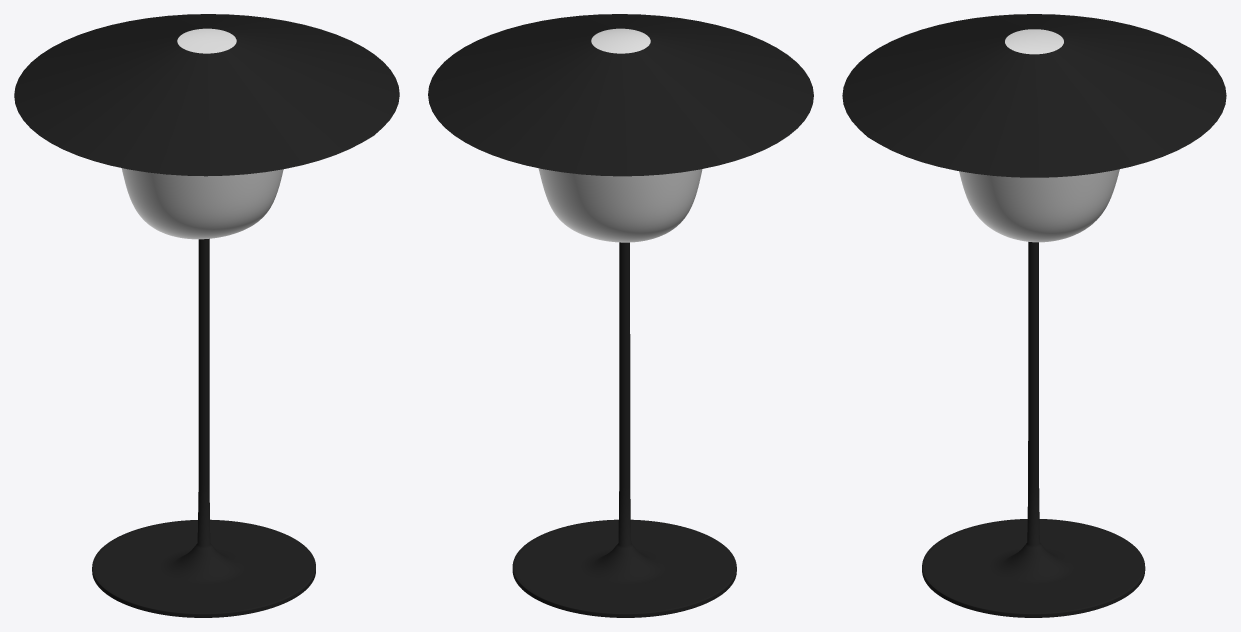
Rendered from lamp.glb.
3 views of the same model, side by side, from view 1: azimuth 30°, elevation 25°; view 2: azimuth 150°, elevation 25°; view 3: azimuth 270°, elevation 25° (orthographic).
Visible parts, largest first — view 1: Cylinder001_1001 (×3), Sphere001_1001; view 2: Cylinder001_1001 (×3), Sphere001_1001; view 3: Cylinder001_1001 (×3), Sphere001_1001.
Part boxes in pixels (x1,y1,x2,y2): Cylinder001_1001 (×3): [14, 14, 399, 617]; Sphere001_1001: [121, 28, 283, 239]; Cylinder001_1001 (×3): [428, 14, 813, 617]; Sphere001_1001: [538, 28, 702, 242]; Cylinder001_1001 (×3): [842, 14, 1226, 617]; Sphere001_1001: [959, 29, 1119, 242].
Bounding box in the file's own units: 22.02 × 33.23 × 21.82.
1 material, 1 textured.
